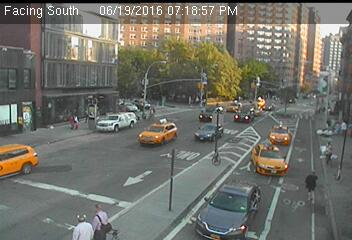neg: (81, 100, 115, 145), (161, 176, 191, 216), (37, 142, 67, 181), (9, 33, 37, 71), (240, 132, 266, 166), (136, 129, 160, 161), (221, 69, 245, 100), (298, 32, 321, 63), (208, 116, 230, 145), (116, 25, 138, 54), (268, 67, 289, 95), (166, 80, 185, 105), (67, 54, 85, 79), (25, 100, 43, 124), (201, 147, 219, 171), (174, 34, 191, 58), (246, 32, 263, 54)
pos: (297, 169, 325, 208), (89, 200, 116, 237), (317, 137, 339, 166), (70, 208, 91, 237)
